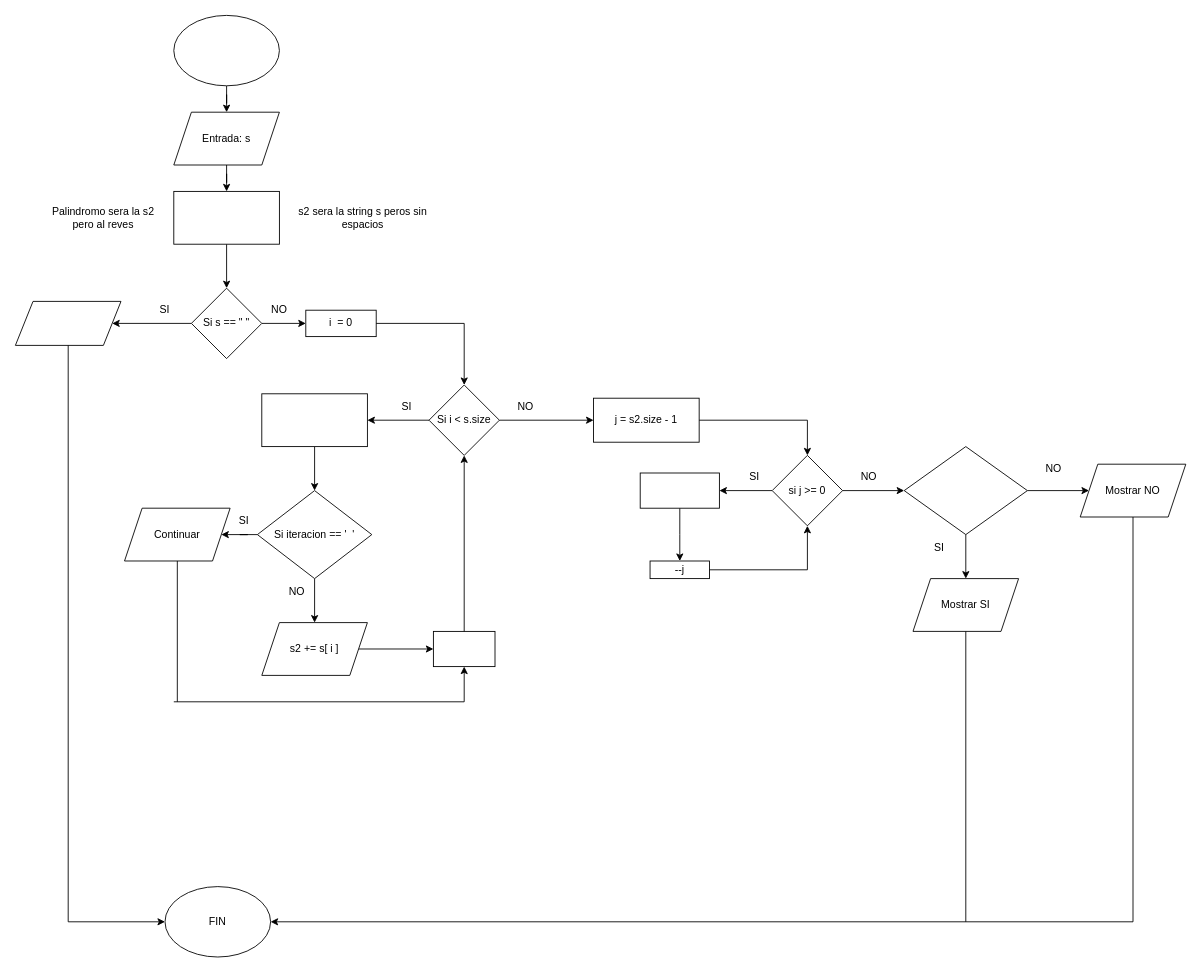
This 1201x972 diagram has some shape labels left out. The centre of each missing label's shape, as x and y in pixels:
"++i" belongs at (464,649).
"INICIO" belongs at (226,50).
"Iteracion = s[i]" belongs at (314,420).
"Mostrar: SI" belongs at (68,323).
"Palindromo += s2 [ j ]" belongs at (679,490).
"Si palindromo == s2" belongs at (965,490).
"String s2 ; char iteracion string palindromo" belongs at (226,217).
